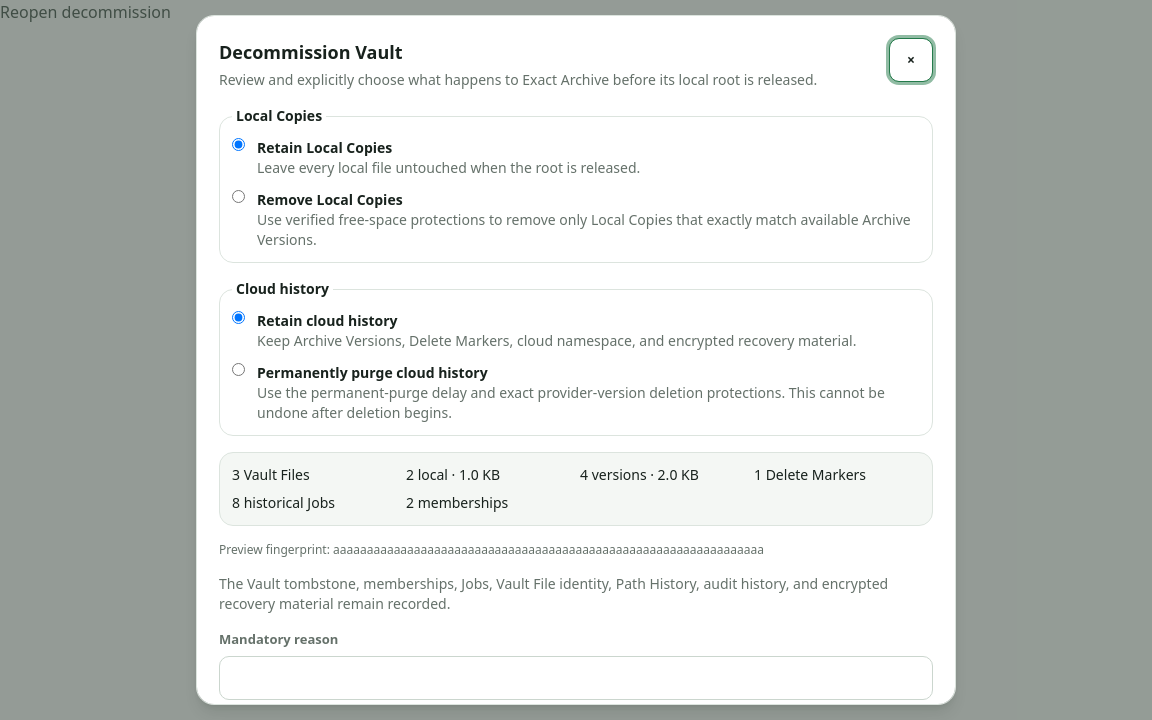
it: Vault decommission confirmation and progress › shows authoritative counts/fingerprint and sends four explicit gates
Expected: the text "3 Vault Files" is shown, [232,465,310,484]
Expected: the text "1 Delete Markers" is shown, [754,465,866,484]
Click the radio button labelled "Permanently purge cloud history".
click(238, 370)  # box [232,363,245,376]
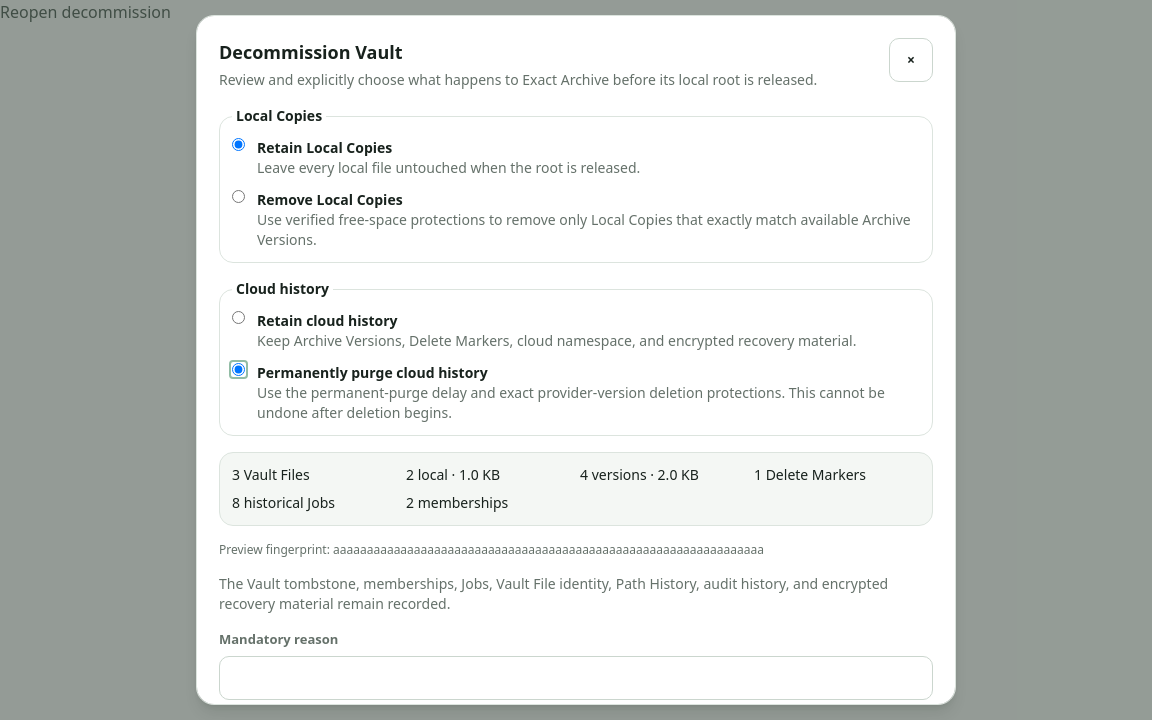
Type "retire archive" into the field labelled "Mandatory reason".
click(576, 678); type("retire archive")  # box [219,656,933,700]
(page scrolled)
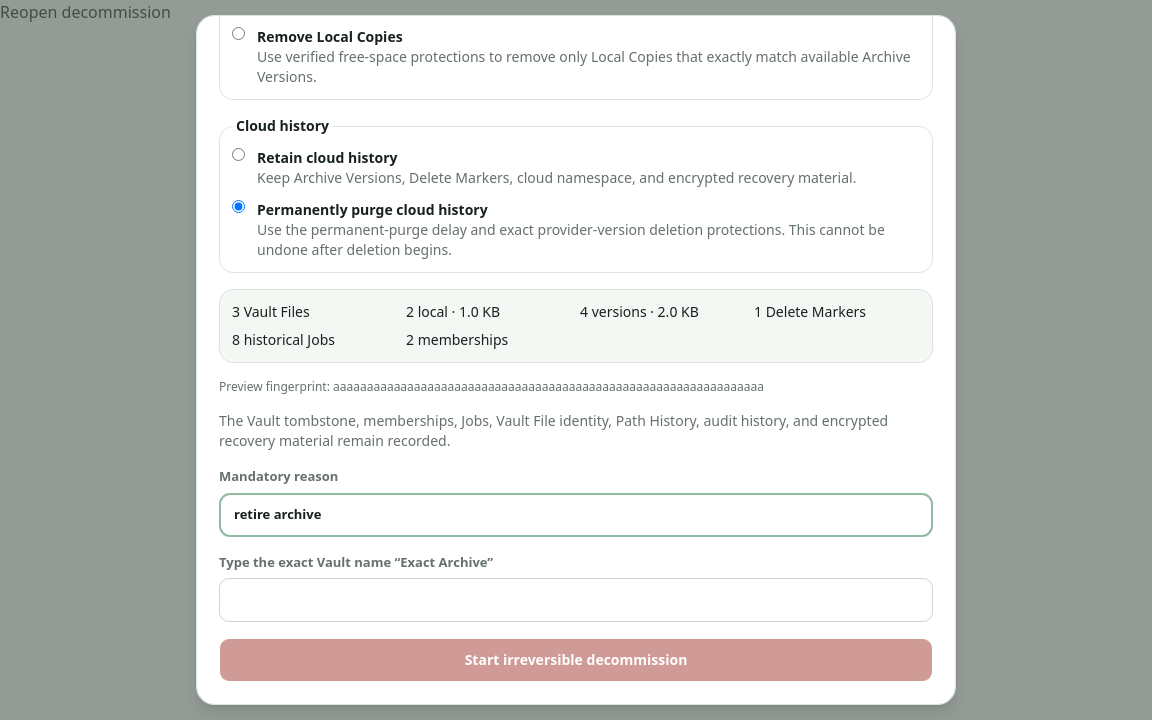
Type "exact archive" into the field labelled "Type the exact Vault name “Exact Archive”".
click(576, 600); type("exact archive")  # box [219,578,933,622]
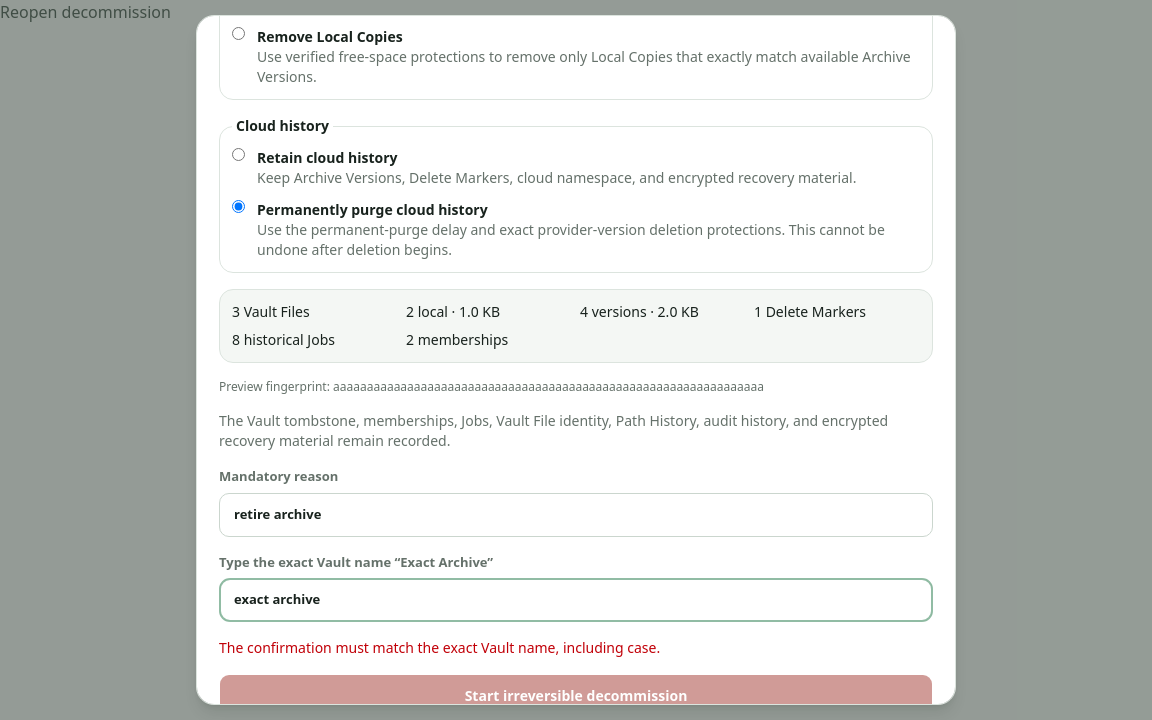
Expected: the button "Start irreversible decommission" is disabled, [219,674,933,705]
Replace the text in the field labelled "Type the exact Vault name “Exact Archive”" with "Exact Archive" at (576,600), box [219,578,933,622]
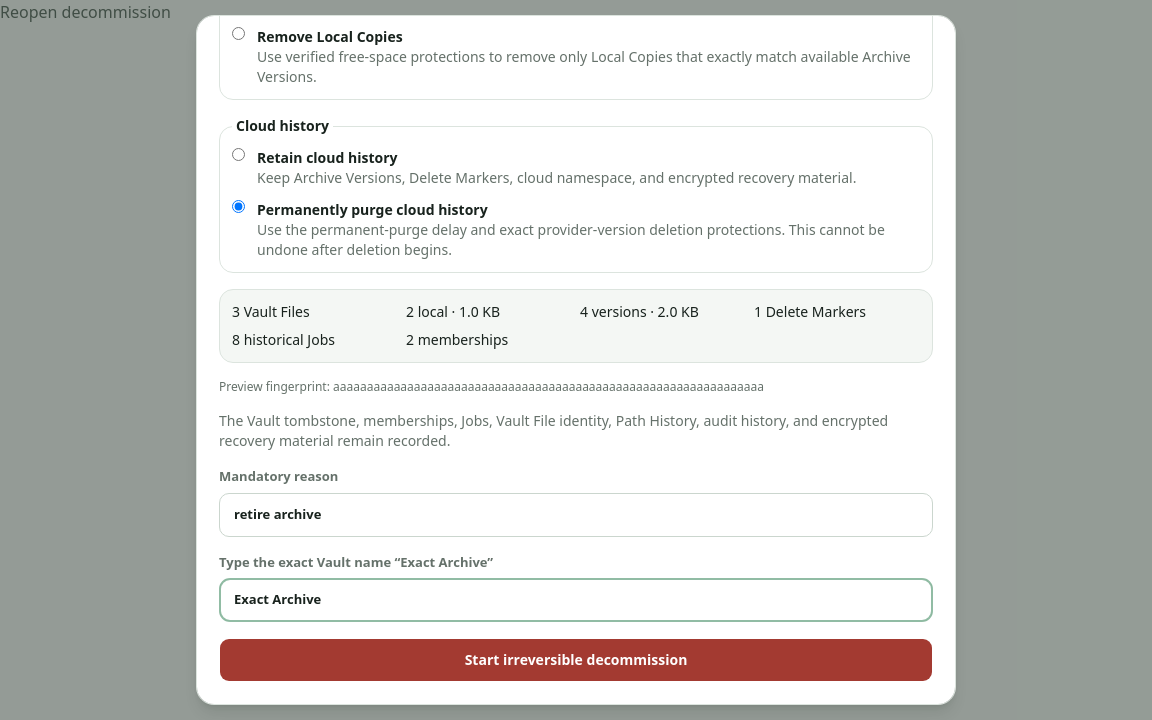
Click the button "Start irreversible decommission".
click(576, 660)  # box [219,638,933,682]
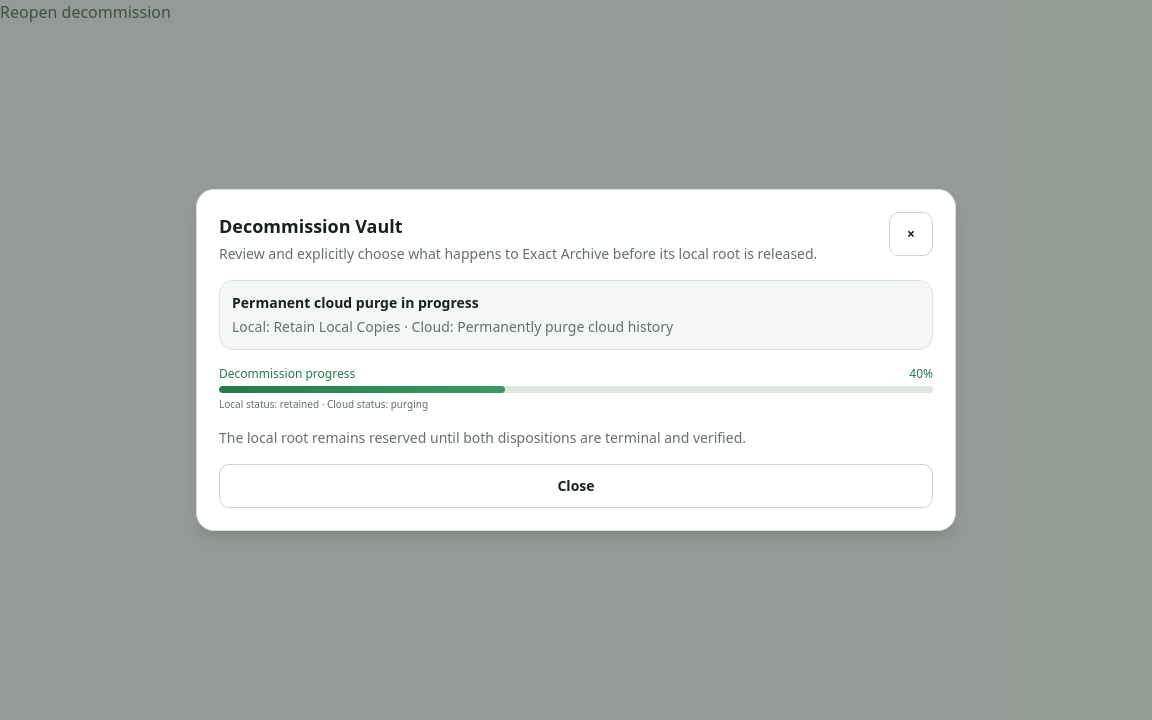
Expected: the element with test id "decommission-progress" shows "Permanent cloud purge in progress", [232,293,479,312]
Expected: the text "root remains reserved" is shown, [219,428,746,447]
